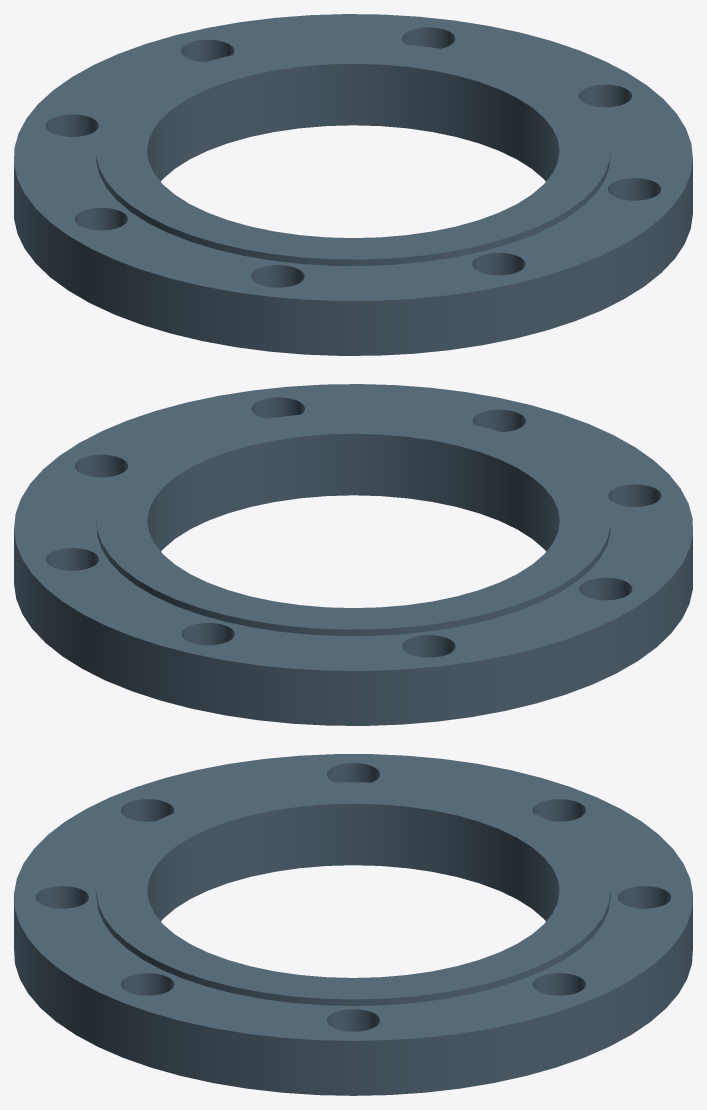
File: flanec-ploskij-DN150-PN16.glb
3 renders of one model, top to bottom at view 1: azimuth 30°, elevation 25°; view 2: azimuth 150°, elevation 25°; view 3: azimuth 270°, elevation 25°, orthographic.
Visible parts, largest first — view 1: Open CASCADE STEP translator 7.9 32; view 2: Open CASCADE STEP translator 7.9 32; view 3: Open CASCADE STEP translator 7.9 32.
Boxes of the visible parts, x1,y1,x2,y2 form: Open CASCADE STEP translator 7.9 32: (14,14,692,355); Open CASCADE STEP translator 7.9 32: (14,384,692,725); Open CASCADE STEP translator 7.9 32: (14,754,692,1095).
Bounding box in the file's own units: 280 × 28 × 280.
